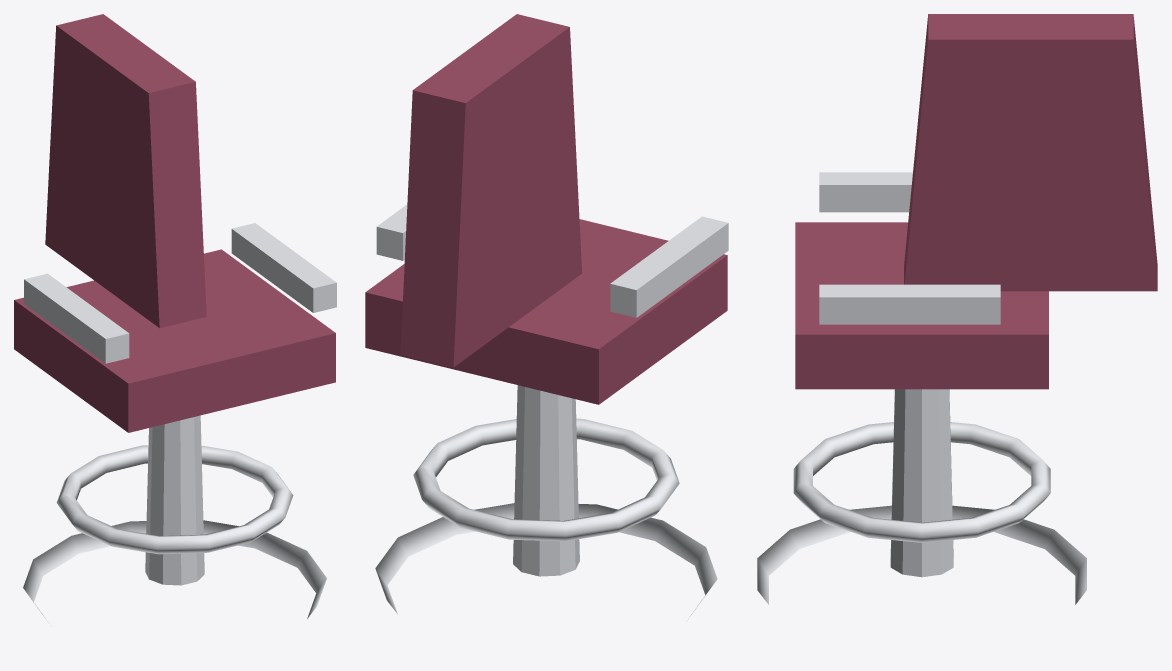
The model's file is casino-floor-and-back-rooms-machine-chair-8cc9ad5d__27024.glb.
3 renders of one model, left to right at view 1: azimuth 30°, elevation 25°; view 2: azimuth 150°, elevation 25°; view 3: azimuth 270°, elevation 25°, orthographic. The views are drawn at different scales.
Parts seen in each view (by area): view 1: machine-chair; view 2: machine-chair; view 3: machine-chair.
Boxes of the visible parts, left/top/right/bottom form: machine-chair: left=14, top=14, right=336, bottom=622; machine-chair: left=365, top=14, right=728, bottom=614; machine-chair: left=757, top=14, right=1157, bottom=604.
Size of the model in its own units: 0.56 by 1.03 by 0.663.
